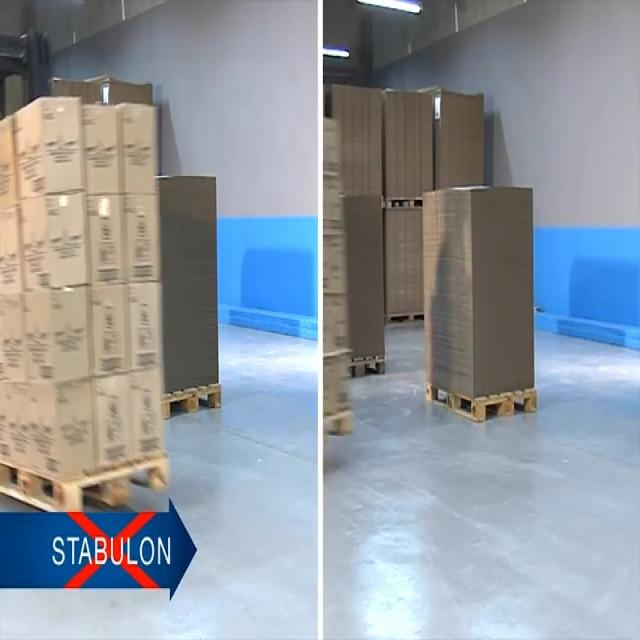Chariot elevateur: (0, 26, 53, 142)
Palette: (0, 451, 174, 524), (424, 383, 540, 433), (160, 383, 227, 432), (342, 351, 389, 388), (324, 400, 358, 447), (378, 191, 424, 220), (381, 309, 428, 335)
